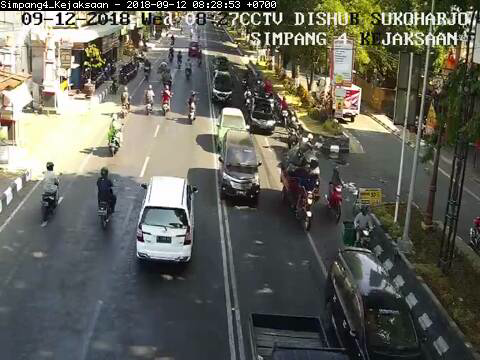motor: (280, 147, 324, 230), (347, 205, 376, 253), (324, 158, 342, 224)
